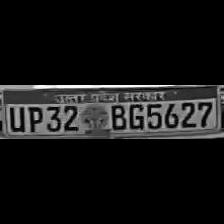2: (60, 102, 80, 132), (179, 99, 197, 129)
3: (44, 102, 60, 132)
5: (144, 100, 162, 130)
6: (162, 100, 178, 130)
7: (196, 100, 212, 128)
B: (107, 102, 127, 131)
G: (125, 102, 144, 131)
P: (25, 104, 43, 132)
U: (5, 104, 25, 132)
